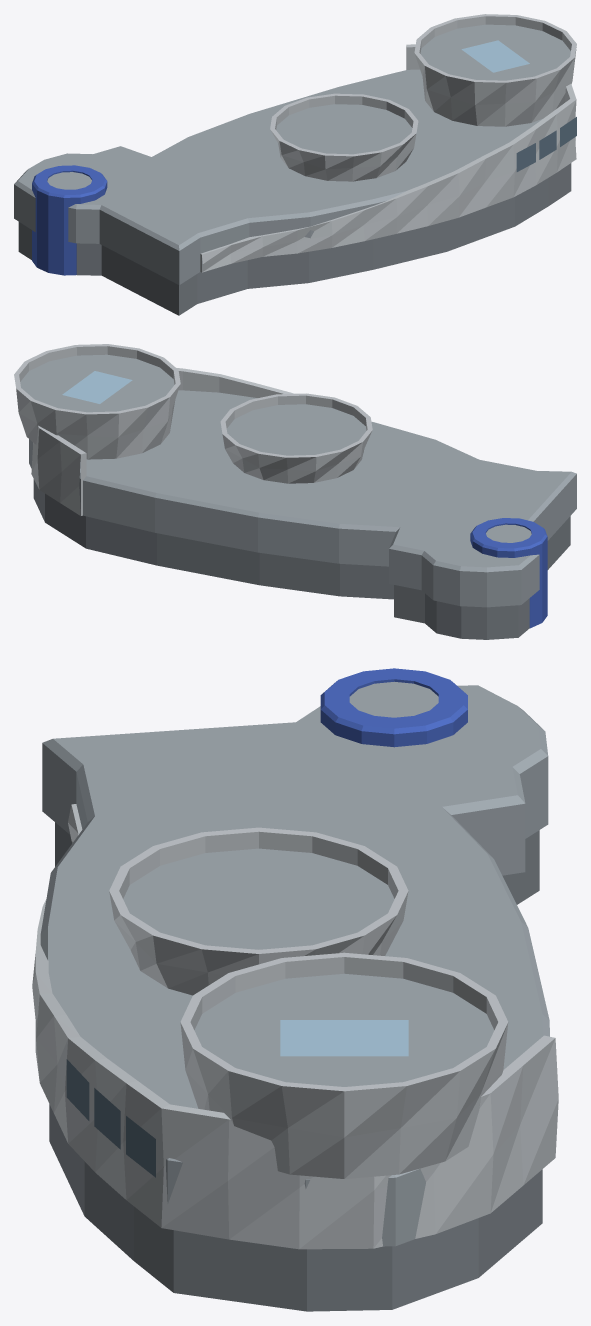
Rendered from nyc-ocean-wonders-sharks.glb.
The picture shows the model from 3 angles, top to bottom: view 1: azimuth 30°, elevation 25°; view 2: azimuth 150°, elevation 25°; view 3: azimuth 270°, elevation 25°; orthographic projection. The views are drawn at different scales.
Visible parts, largest first — view 1: Ocean Wonders: Sharks!; view 2: Ocean Wonders: Sharks!; view 3: Ocean Wonders: Sharks!.
Part boxes in pixels (left/top/right/bottom): Ocean Wonders: Sharks!: left=14, top=14, right=576, bottom=315; Ocean Wonders: Sharks!: left=14, top=344, right=576, bottom=639; Ocean Wonders: Sharks!: left=32, top=668, right=558, bottom=1311.
Size of the model in its own units: 84 by 18.5 by 36.94.
